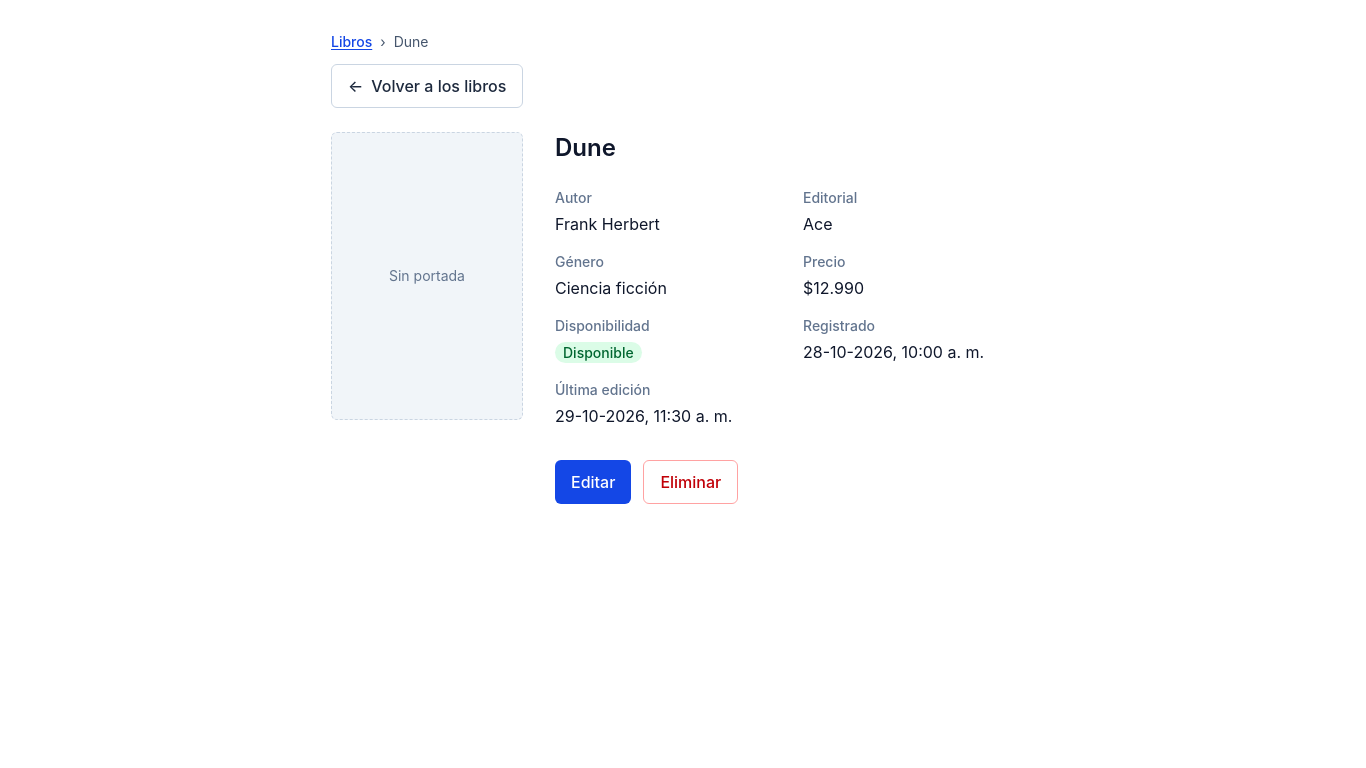
Scenario: BookDetailPage › deleting the book › does nothing when the user cancels with the button
Step 1. Click the button "Eliminar" → click(691, 482), box [643,460,738,504]
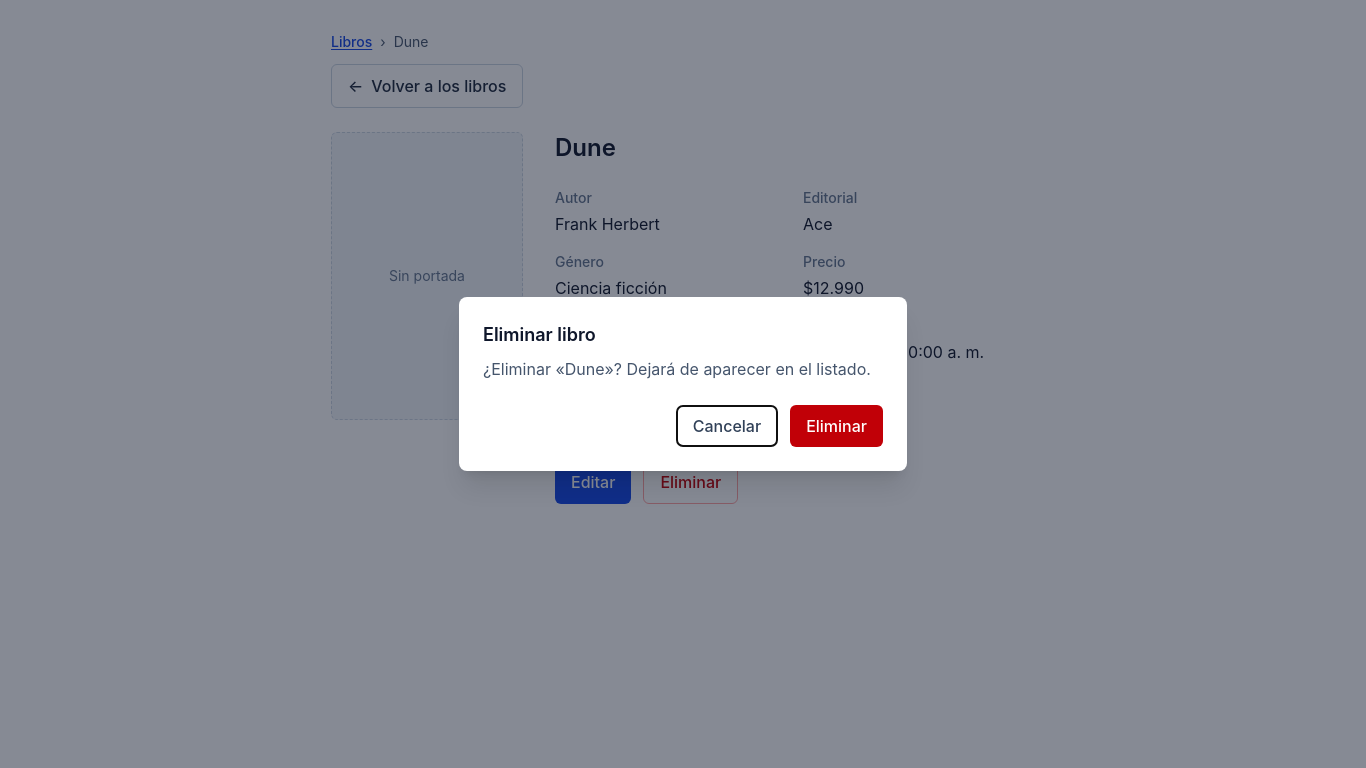
Step 2. Click the button "Cancelar" → click(727, 426), box [676,405,778,447]
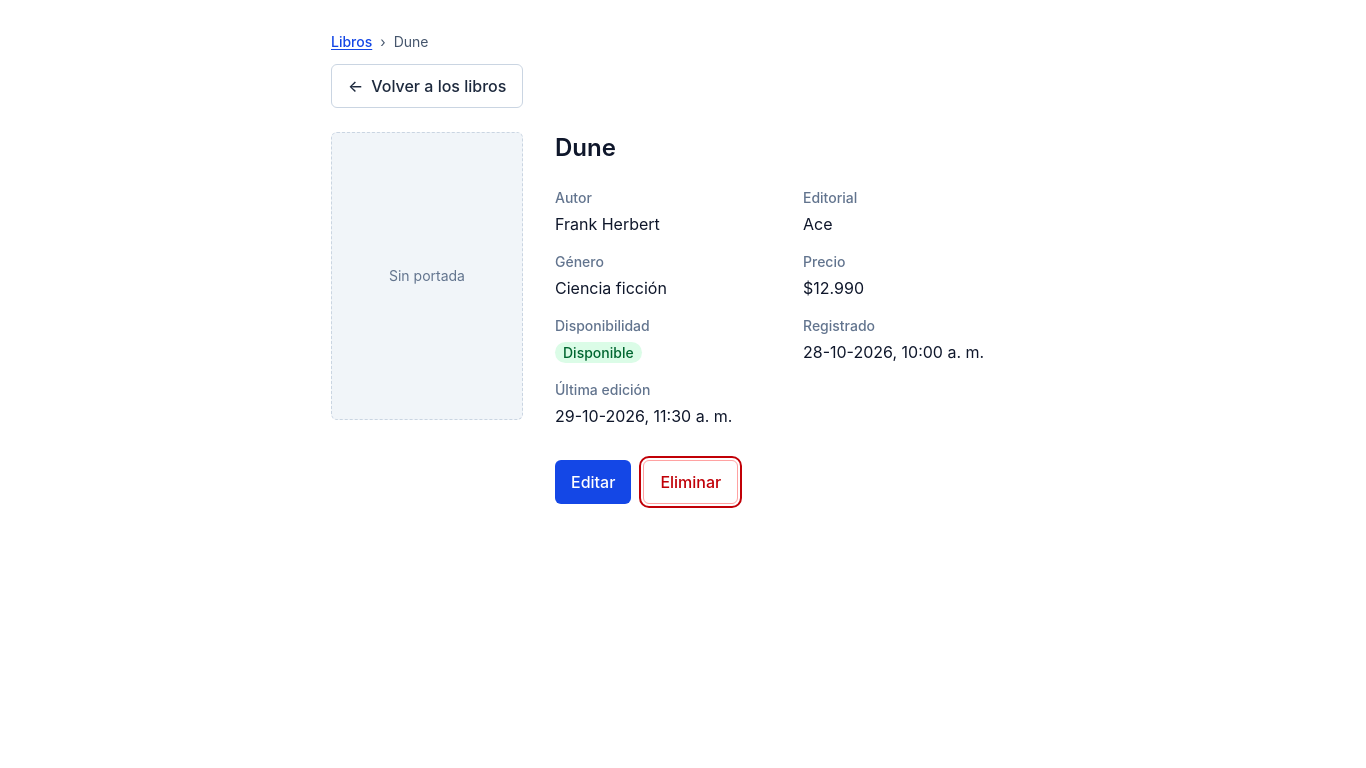
expect the dialog is gone: met
